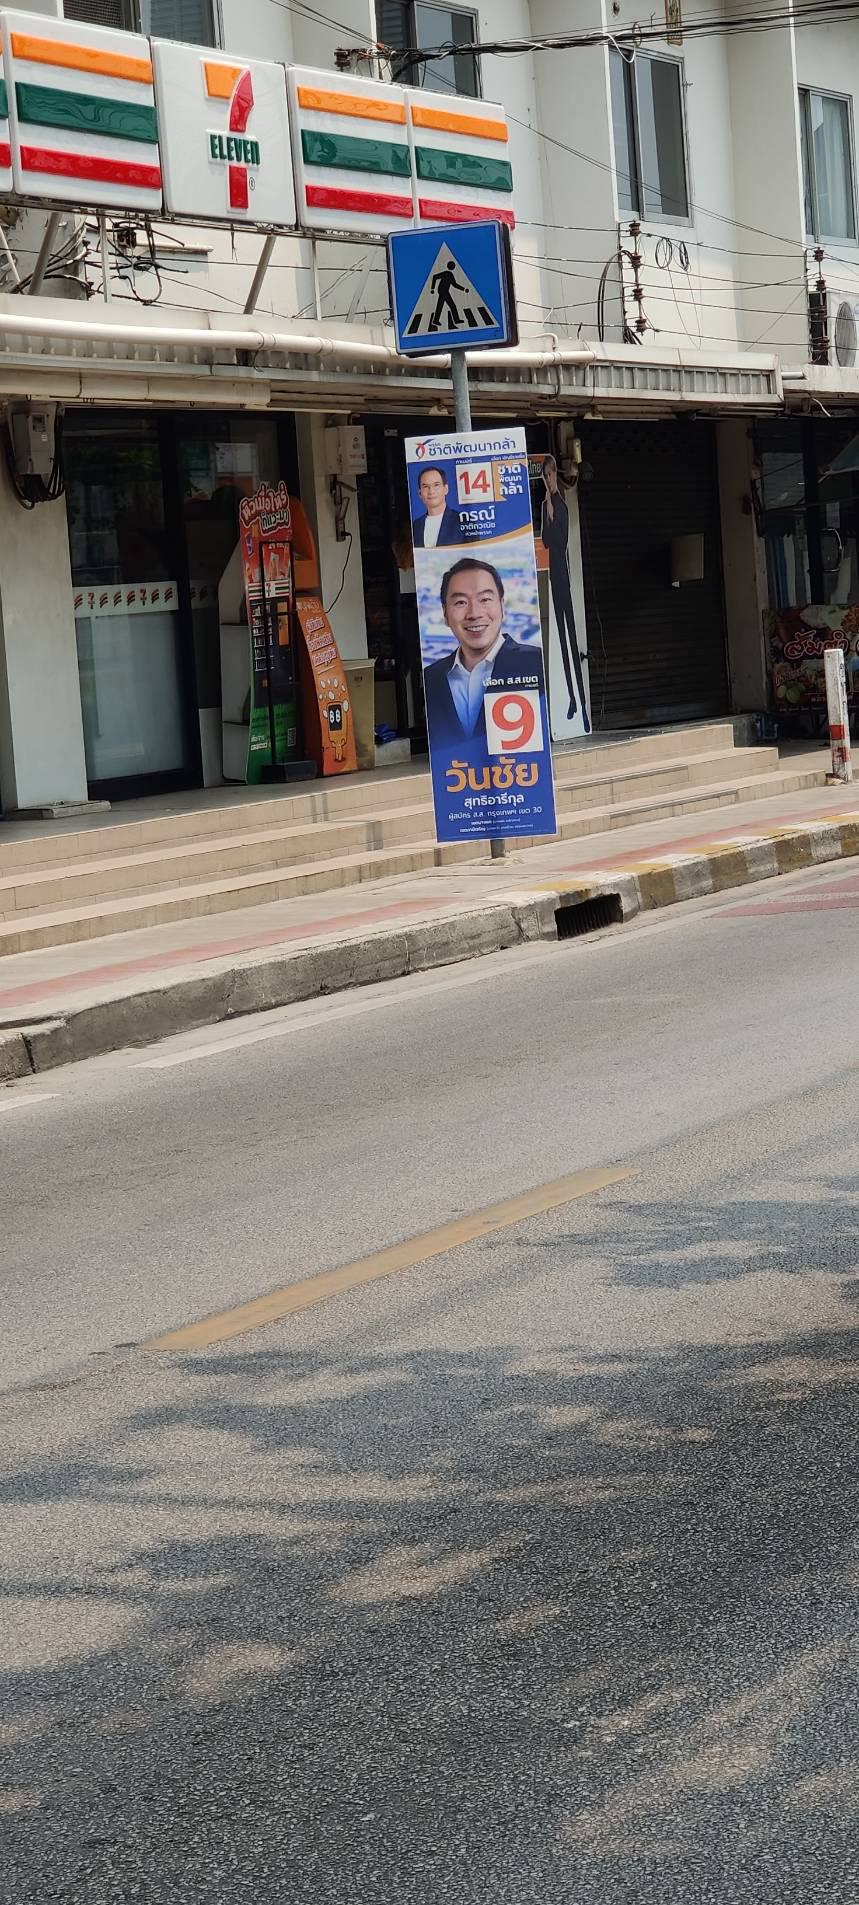Banner: (388, 429, 564, 844)
